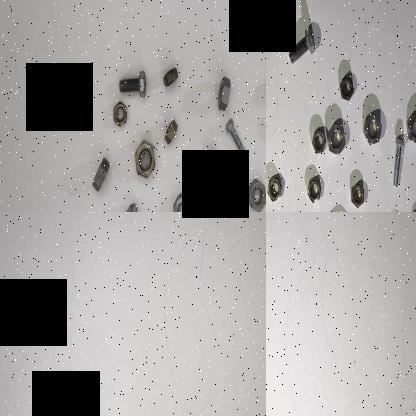Bolts: (285, 17, 318, 67), (224, 113, 250, 164), (116, 67, 150, 98), (389, 134, 405, 188), (122, 200, 149, 212)
NUTS: (132, 139, 154, 180), (90, 151, 110, 194), (360, 112, 385, 143), (215, 71, 233, 114), (326, 120, 346, 158), (247, 175, 266, 212), (161, 61, 182, 91), (305, 173, 325, 203), (338, 72, 358, 102), (347, 178, 365, 209), (266, 173, 283, 204), (162, 113, 176, 150), (111, 100, 129, 127), (310, 128, 328, 153), (405, 108, 416, 148), (202, 147, 223, 167), (173, 190, 191, 212), (203, 193, 219, 212)
